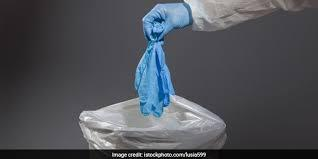Glove: (135, 40, 174, 116), (142, 3, 191, 40)
